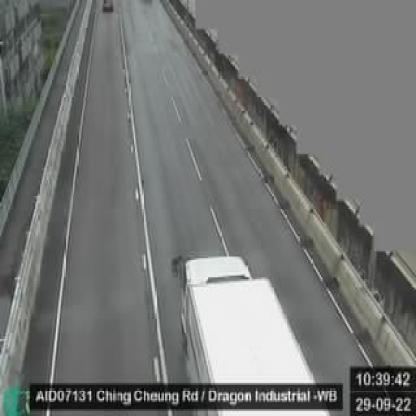Truck: (151, 243, 333, 414)
